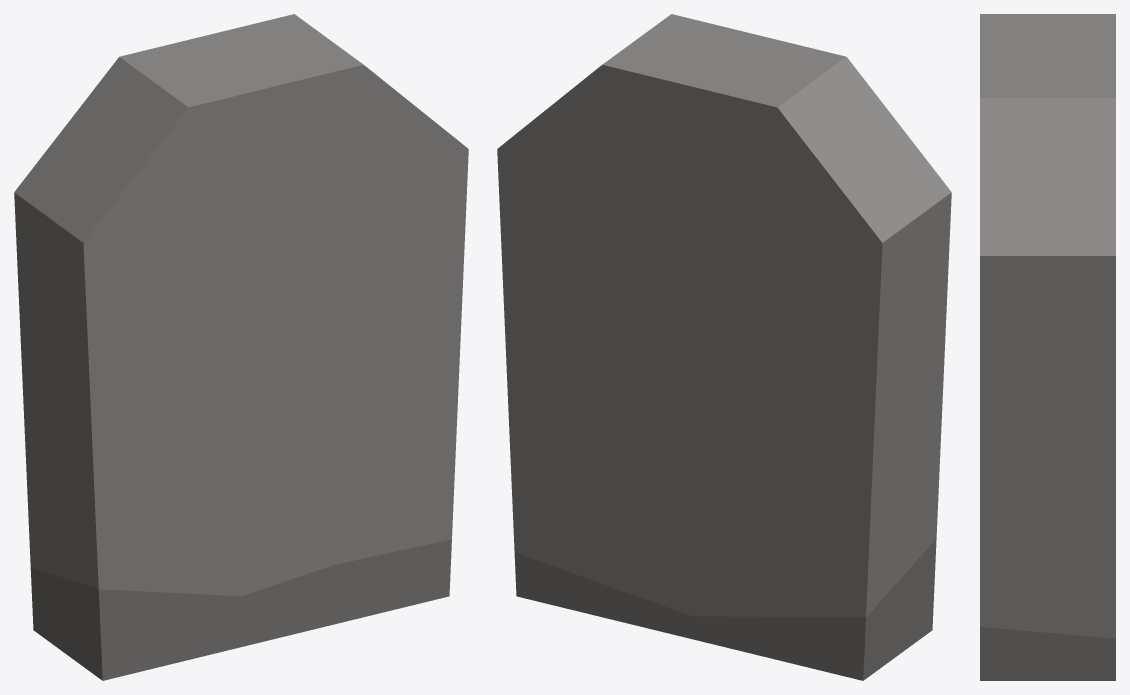
The model's file is SM_Props_Graveyard_01.fbx.
The picture shows the model from 3 angles, left to right: view 1: azimuth 30°, elevation 25°; view 2: azimuth 150°, elevation 25°; view 3: azimuth 270°, elevation 25°; orthographic projection.
Visible parts, largest first — view 1: SM_Props_Graveyard_01; view 2: SM_Props_Graveyard_01; view 3: SM_Props_Graveyard_01.
Part boxes in pixels (bbox=[...]): SM_Props_Graveyard_01: bbox=[14, 14, 468, 680]; SM_Props_Graveyard_01: bbox=[497, 14, 951, 680]; SM_Props_Graveyard_01: bbox=[980, 14, 1115, 680].
Bounding box in the file's own units: 153 × 210 × 47.74.
